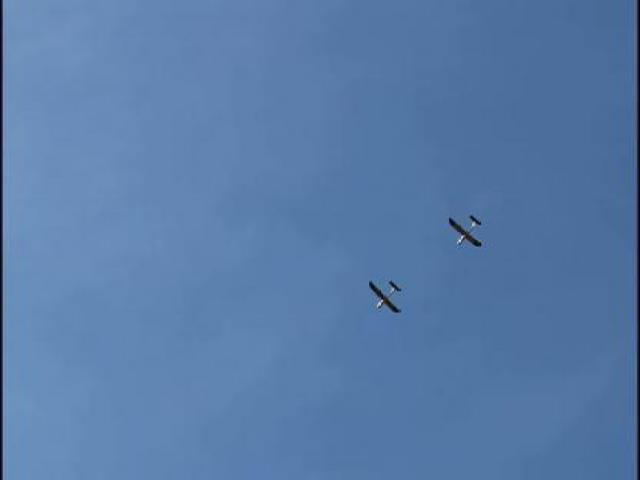uav: (449, 210, 483, 250), (368, 279, 402, 315)
